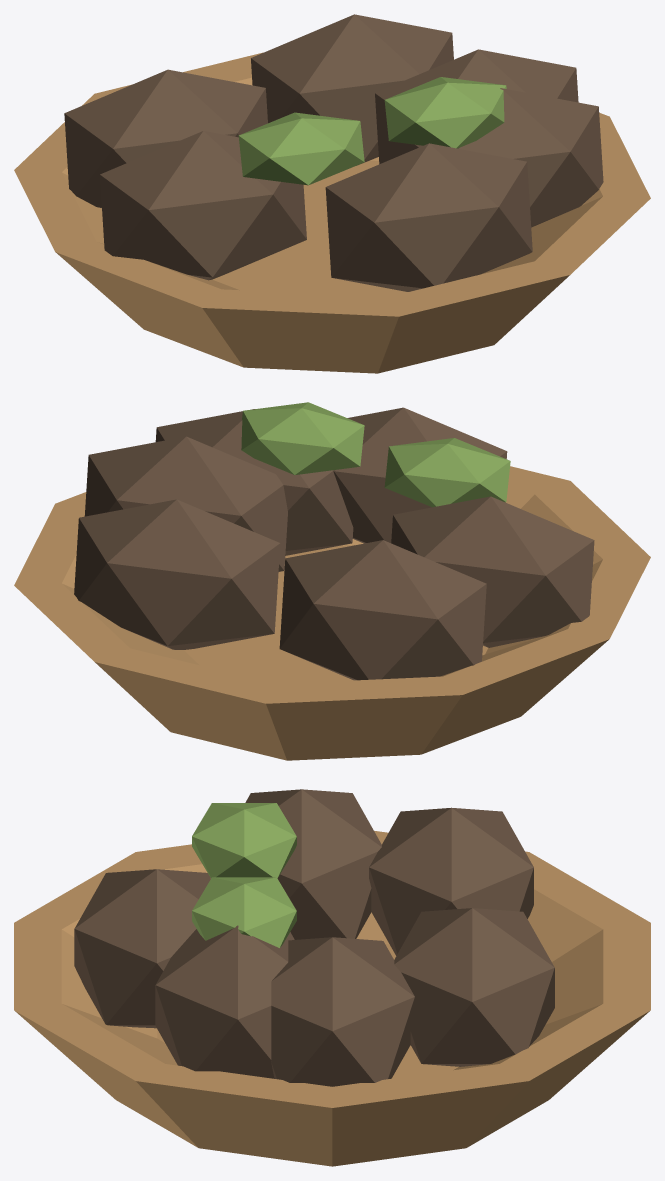
File: CC_FoodRotten.fbx
3 renders of one model, top to bottom at view 1: azimuth 30°, elevation 25°; view 2: azimuth 150°, elevation 25°; view 3: azimuth 270°, elevation 25°, orthographic. The views are drawn at different scales.
Visible parts, largest first — view 1: Serving dish.002, Food.014, Food.016, Food.015, Food.013, Food.017, Mold, Mold.001, Food.012; view 2: Serving dish.002, Food.015, Food.013, Food.016, Food.012, Food.014, Food.017, Mold.001, Mold; view 3: Serving dish.002, Food.015, Food.012, Food.013, Food.017, Food.014, Food.016, Mold, Mold.001.
Part boxes in pixels (bbox=[...]): Serving dish.002: bbox=[14, 52, 650, 373]; Food.014: bbox=[325, 143, 532, 291]; Food.016: bbox=[100, 131, 306, 280]; Food.015: bbox=[251, 14, 453, 164]; Food.013: bbox=[64, 69, 267, 207]; Food.017: bbox=[398, 88, 603, 227]; Mold: bbox=[238, 112, 364, 185]; Mold.001: bbox=[384, 77, 506, 148]; Food.012: bbox=[375, 49, 578, 164]; Serving dish.002: bbox=[14, 466, 650, 760]; Food.015: bbox=[74, 499, 280, 649]; Food.013: bbox=[279, 540, 486, 680]; Food.016: bbox=[391, 496, 594, 647]; Food.012: bbox=[84, 436, 287, 571]; Food.014: bbox=[333, 407, 507, 543]; Food.017: bbox=[155, 409, 353, 555]; Mold.001: bbox=[241, 402, 364, 474]; Mold: bbox=[384, 438, 510, 507]; Serving dish.002: bbox=[14, 830, 650, 1166]; Food.015: bbox=[394, 908, 554, 1066]; Food.012: bbox=[271, 937, 414, 1086]; Food.013: bbox=[369, 807, 533, 955]; Food.017: bbox=[155, 925, 294, 1078]; Food.014: bbox=[74, 869, 210, 1028]; Food.016: bbox=[245, 789, 381, 939]; Mold: bbox=[192, 803, 296, 878]; Mold.001: bbox=[192, 877, 296, 947].
Bounding box in the file's own units: 0.76 × 0.28 × 0.7228.
